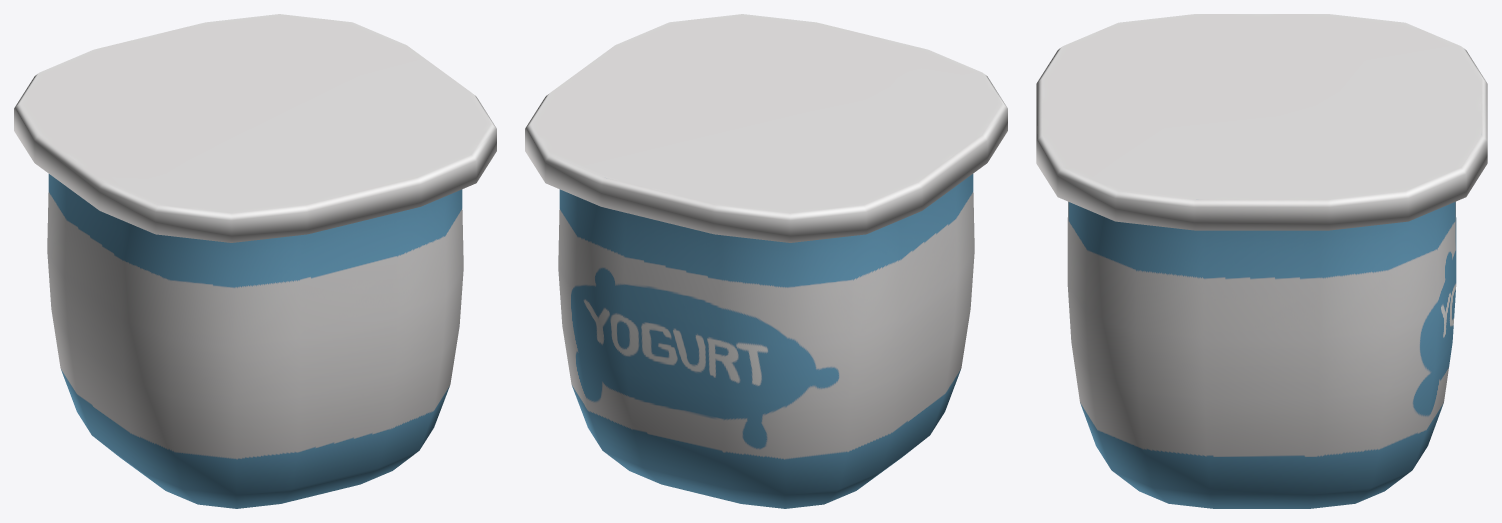
File: sua chua.fbx
3 renders of one model, left to right at view 1: azimuth 30°, elevation 25°; view 2: azimuth 150°, elevation 25°; view 3: azimuth 270°, elevation 25°, orthographic. The views are drawn at different scales.
Parts seen in each view (by area): view 1: sua_chua1; view 2: sua_chua1; view 3: sua_chua1.
Boxes of the visible parts, x1,y1,x2,y2 form: sua_chua1: (14,14,496,508); sua_chua1: (525,14,1007,508); sua_chua1: (1036,14,1487,508).
Bounding box in the file's own units: 73.77 × 64.1 × 73.77.
Materials: 1 (1 with a texture image).
